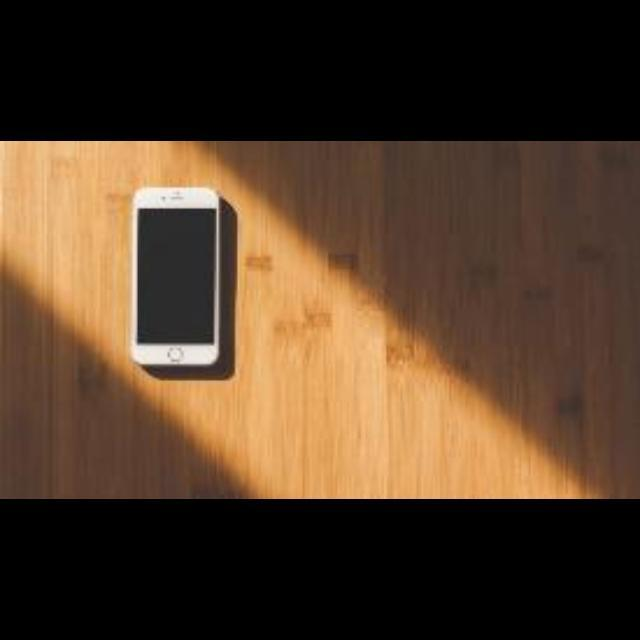Phone: (130, 182, 224, 370)
